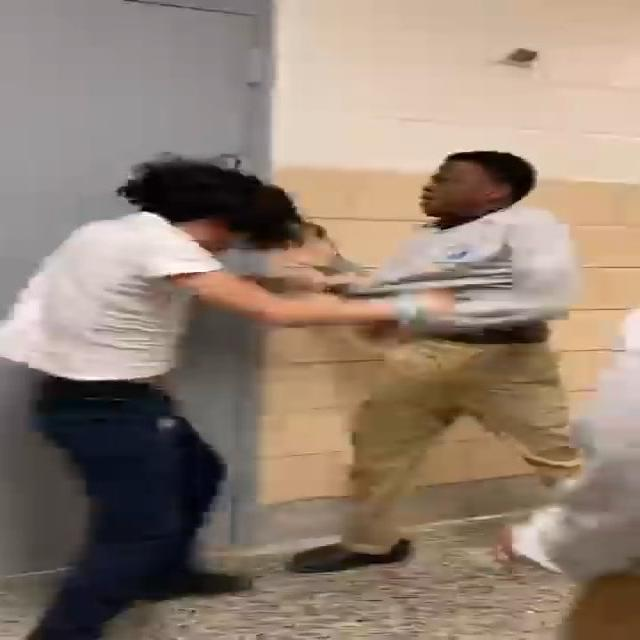fight: (21, 146, 582, 640)
